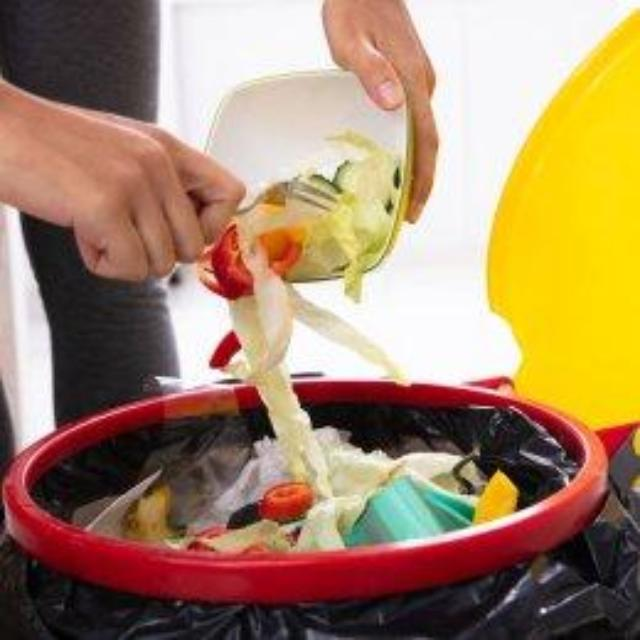Garbage: (86, 429, 519, 553), (189, 439, 291, 531)
